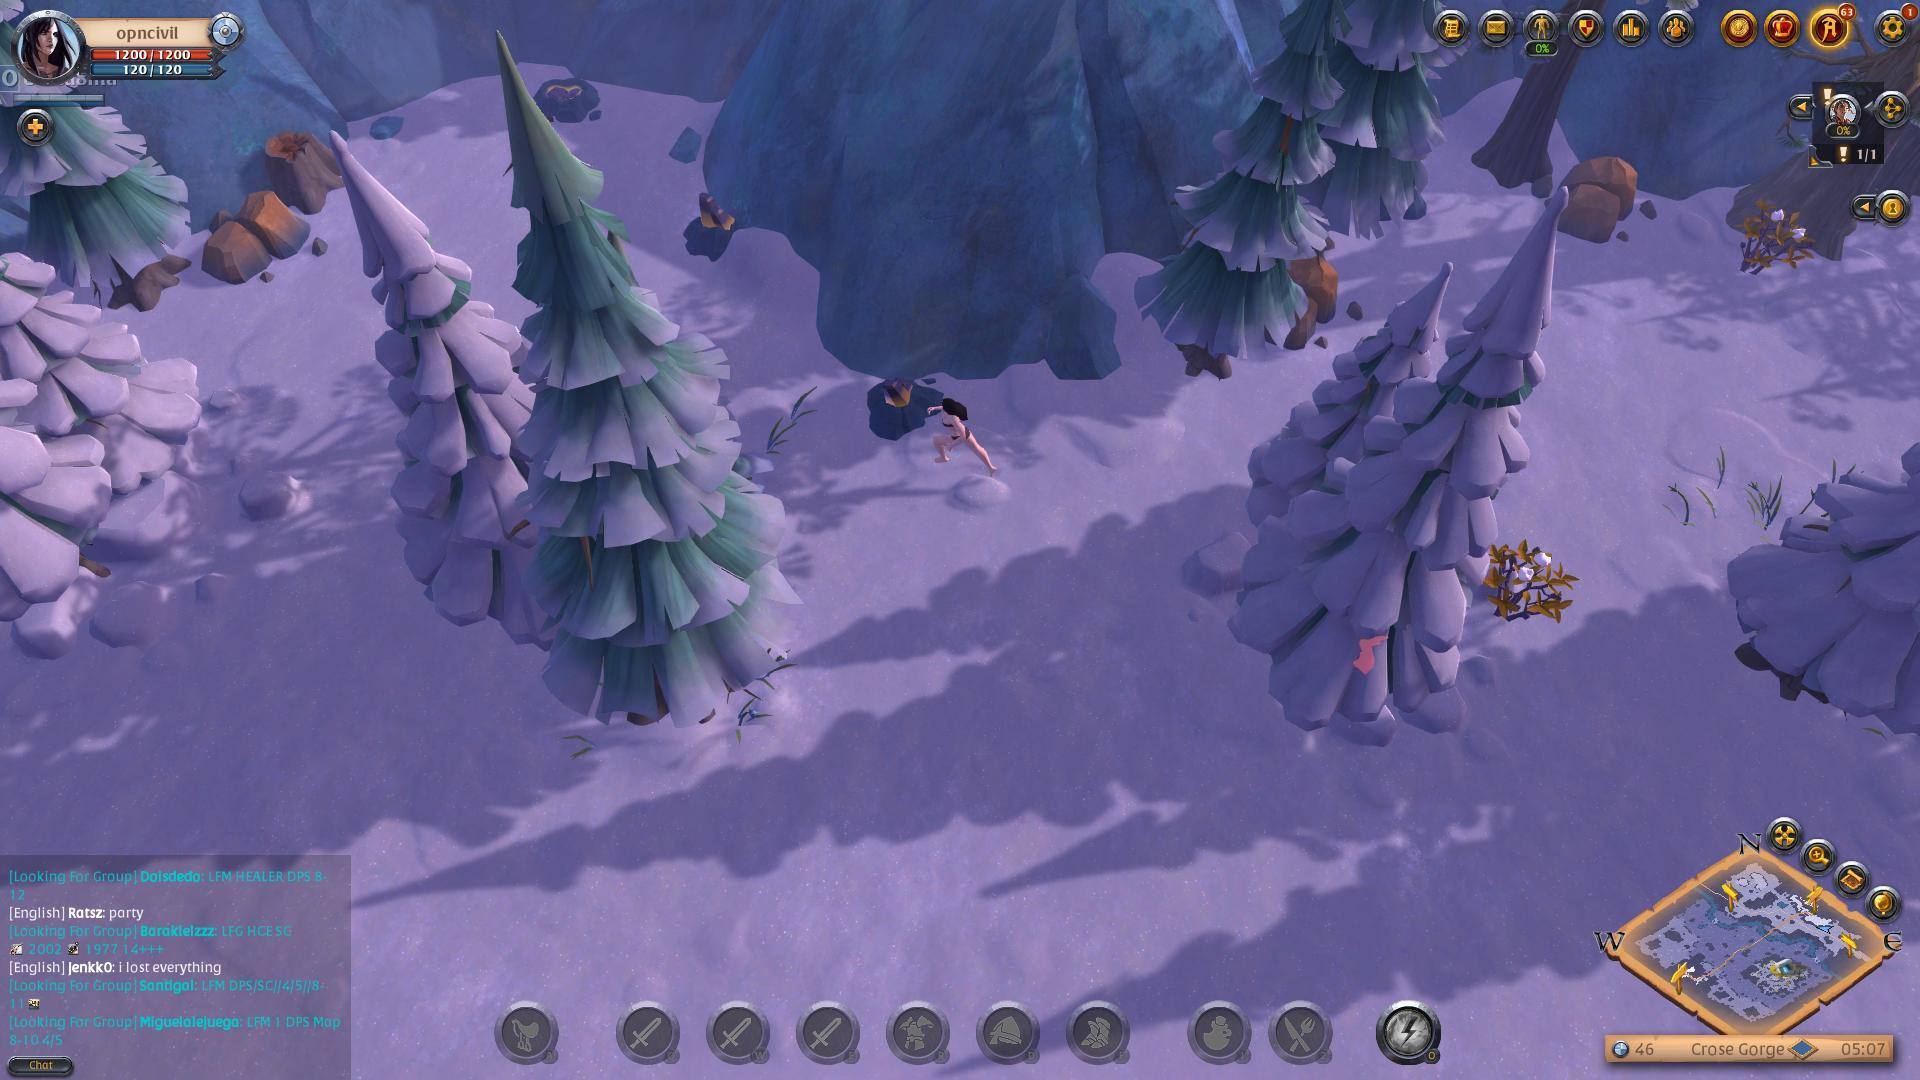copper_ore: (861, 363, 942, 447), (679, 183, 741, 269)
cotton: (1470, 542, 1589, 634), (1733, 183, 1815, 284)
limestone: (194, 187, 313, 287), (1564, 150, 1642, 243)
